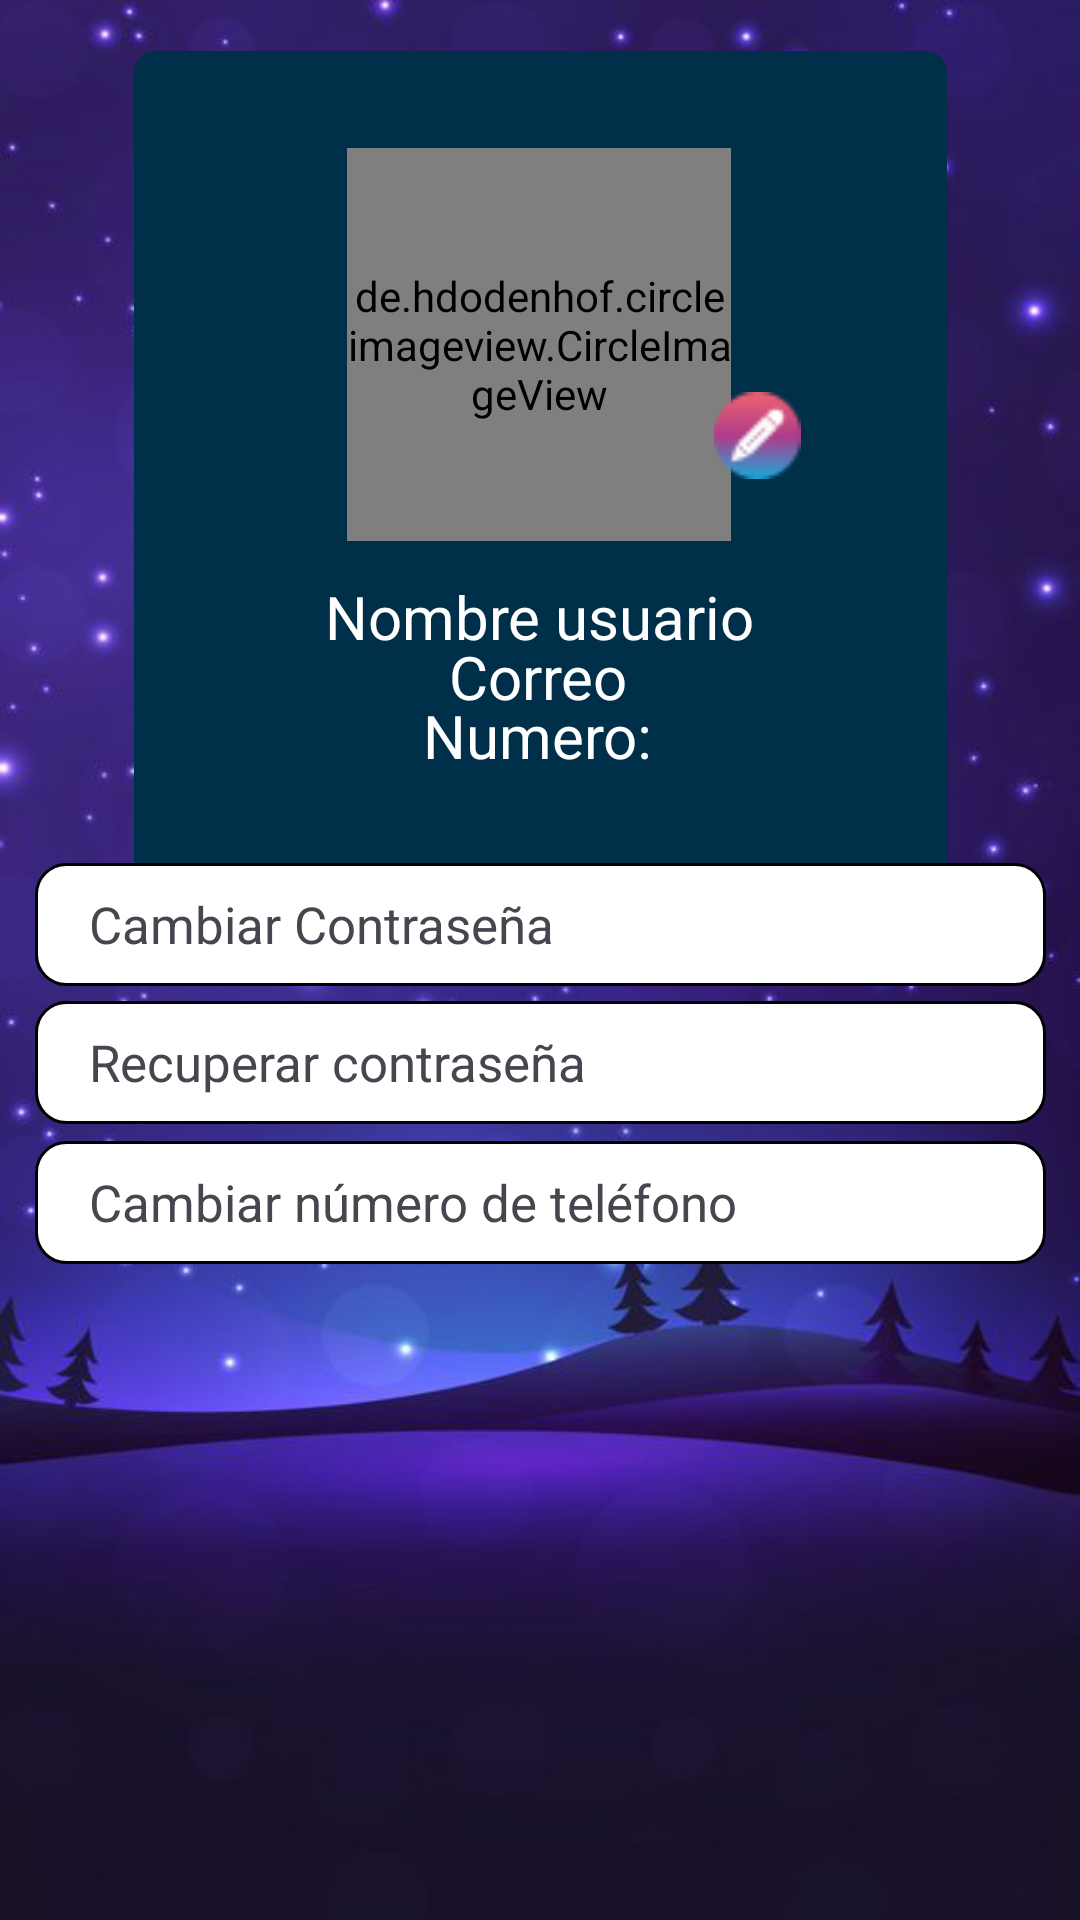

Icons on this 1080w x 1920h Android screen, each with its box as (x1, y1, x2, y2):
lapiz: (708, 392, 801, 479)
